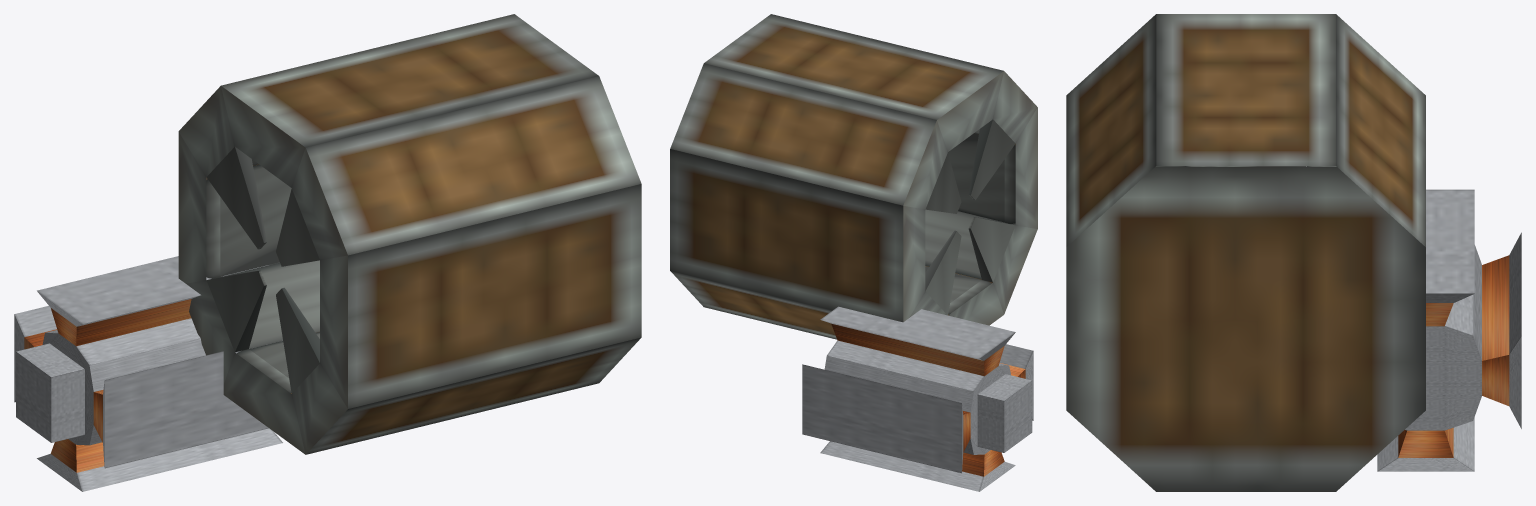
File: motor.obj
3 views of the same model, side by side, from view 1: azimuth 30°, elevation 25°; view 2: azimuth 150°, elevation 25°; view 3: azimuth 270°, elevation 25° (orthographic). The views are drawn at different scales.
Visible parts, largest first — view 1: stator, rotor; view 2: stator, rotor; view 3: stator, rotor.
Boxes of the visible parts, left/top/right/bottom form: stator: left=178, top=14, right=641, bottom=454; rotor: left=14, top=256, right=282, bottom=491; stator: left=670, top=14, right=1037, bottom=339; rotor: left=802, top=306, right=1033, bottom=491; stator: left=1066, top=14, right=1425, bottom=491; rotor: left=1377, top=189, right=1521, bottom=471.
Bounding box in the file's own units: 1.49 × 1.27 × 1.27.
